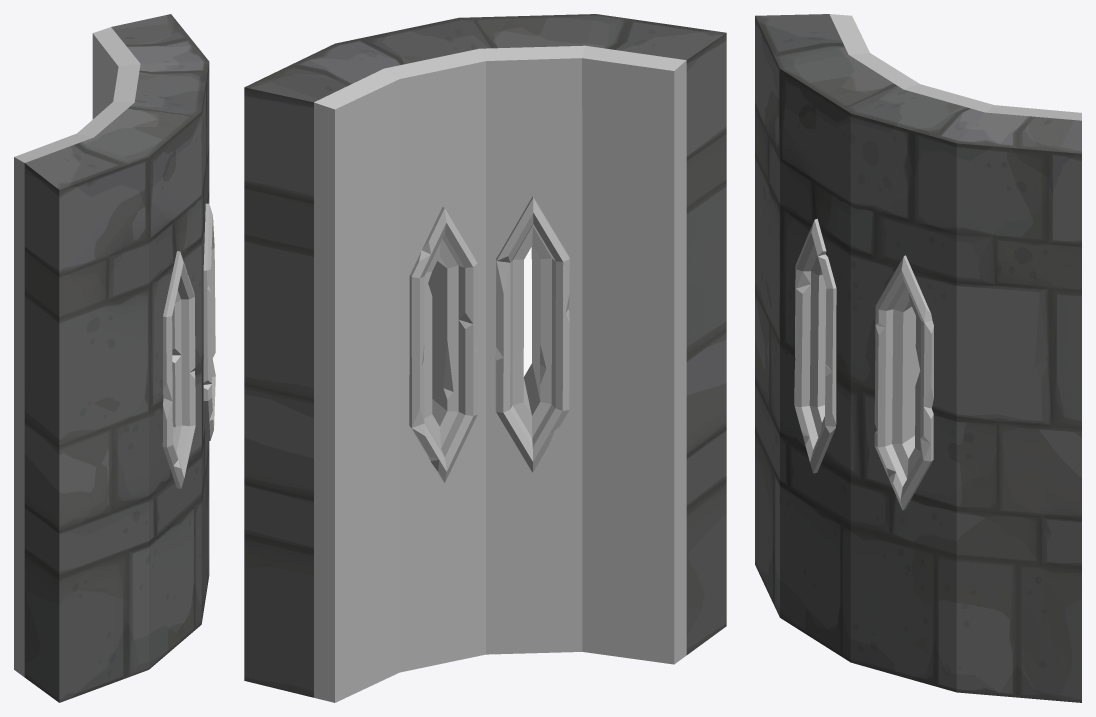
File: SM_Bld_Wall_L_Curve_Window_03.fbx
3 renders of one model, left to right at view 1: azimuth 30°, elevation 25°; view 2: azimuth 150°, elevation 25°; view 3: azimuth 270°, elevation 25°, orthographic. The views are drawn at different scales.
Visible parts, largest first — view 1: SM_Bld_Wall_L_Curve_Window_03; view 2: SM_Bld_Wall_L_Curve_Window_03; view 3: SM_Bld_Wall_L_Curve_Window_03.
Part boxes in pixels (left/top/right/bottom): SM_Bld_Wall_L_Curve_Window_03: left=14, top=14, right=215, bottom=702; SM_Bld_Wall_L_Curve_Window_03: left=244, top=14, right=726, bottom=702; SM_Bld_Wall_L_Curve_Window_03: left=755, top=14, right=1081, bottom=702.
Size of the model in its own units: 324 by 602 by 324.
